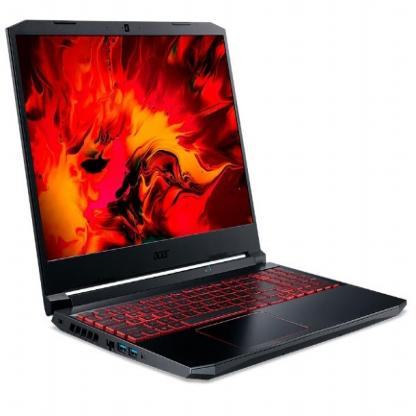NOTEBOOK: (1, 9, 416, 389)
